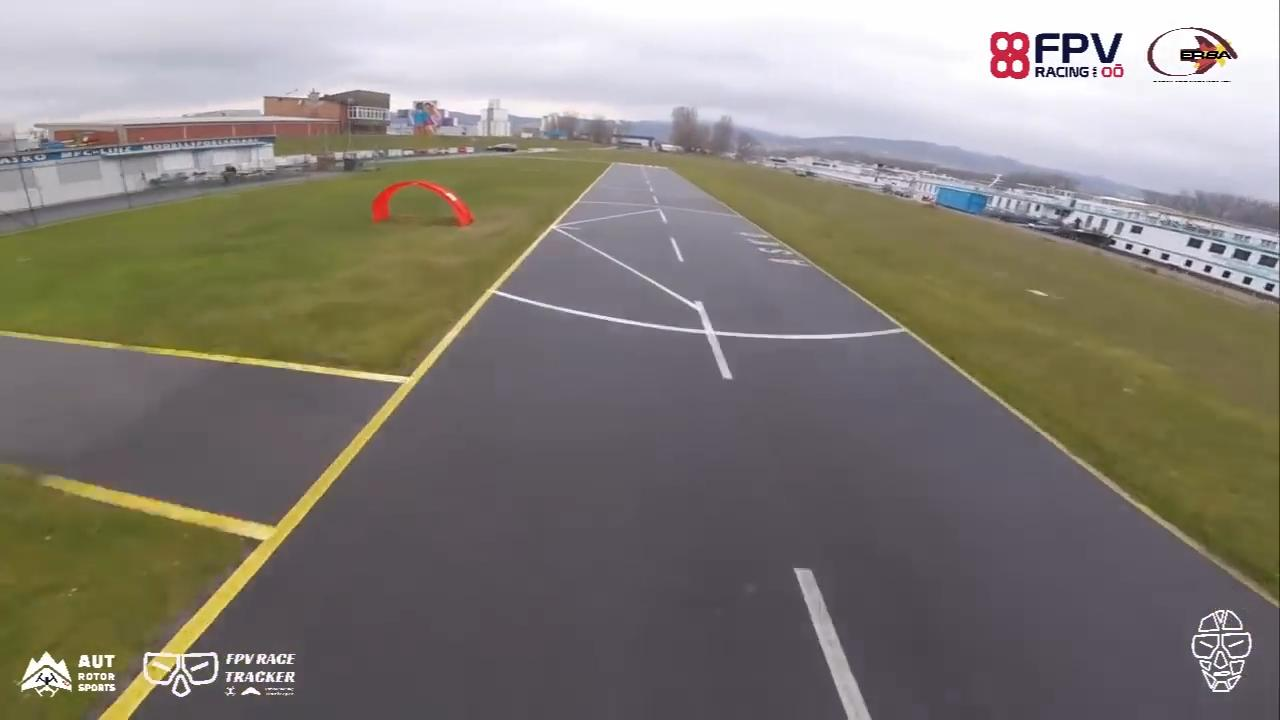gate: (366, 179, 477, 232)
